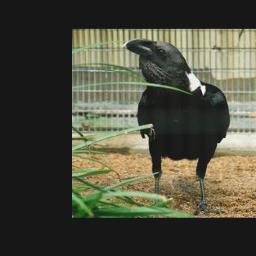Crow: (119, 38, 230, 216)
